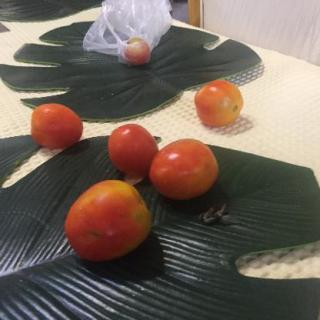Tomat: (58, 174, 159, 269), (148, 133, 223, 197), (103, 114, 162, 177), (188, 78, 250, 132), (31, 97, 87, 153), (121, 33, 157, 74)
